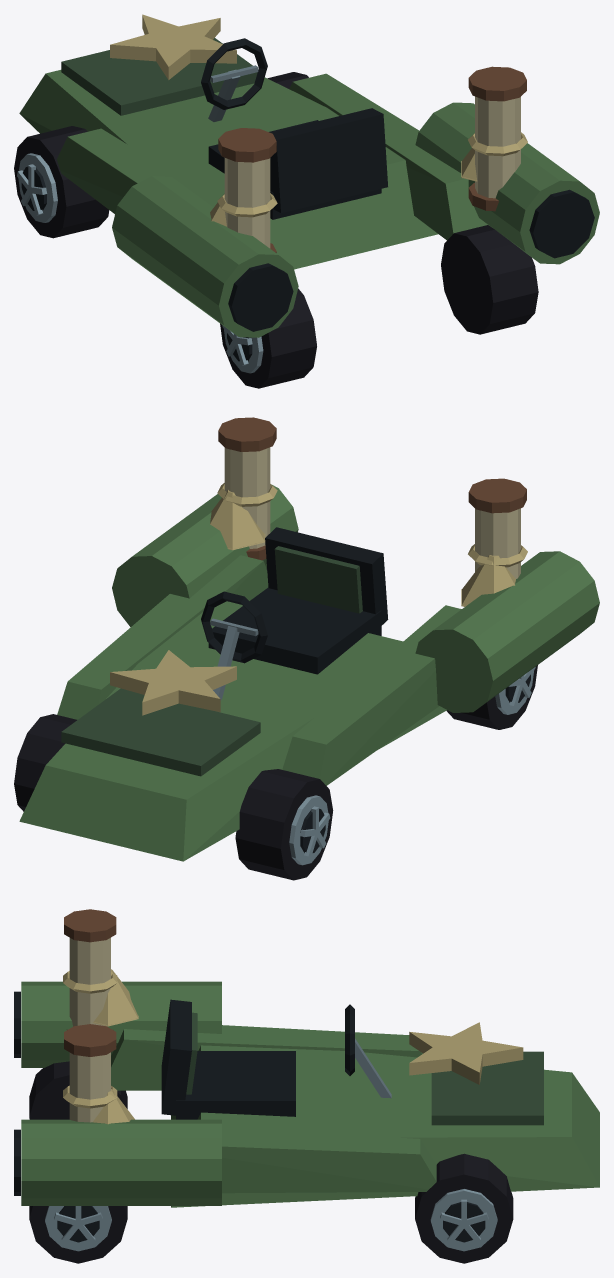
Rendered from kart.glb.
3 views of the same model, one above another, from view 1: azimuth 30°, elevation 25°; view 2: azimuth 150°, elevation 25°; view 3: azimuth 270°, elevation 25° (orthographic). The views are drawn at different scales.
Parts seen in each view (by area): view 1: identity-speeder-speeder-long-cowl-and-stern-turbines, identity-speeder-driver-cockpit, identity-speeder-motif-scrolls, wheel-rear-right, wheel-front-left, wheel-rear-left, identity-speeder-motif-star, identity-speeder-motif-gems; view 2: identity-speeder-speeder-long-cowl-and-stern-turbines, identity-speeder-driver-cockpit, identity-speeder-motif-scrolls, wheel-front-left, identity-speeder-motif-star, identity-speeder-motif-gems, wheel-front-right, wheel-rear-left; view 3: identity-speeder-speeder-long-cowl-and-stern-turbines, identity-speeder-driver-cockpit, identity-speeder-motif-scrolls, wheel-front-right, wheel-rear-right, identity-speeder-motif-star, wheel-rear-left, identity-speeder-motif-gems.
Boxes of the visible parts, left/top/right/bottom form: identity-speeder-speeder-long-cowl-and-stern-turbines: left=19, top=38, right=599, bottom=337; identity-speeder-driver-cockpit: left=201, top=38, right=387, bottom=219; identity-speeder-motif-scrolls: left=217, top=66, right=527, bottom=252; wheel-rear-right: left=441, top=225, right=538, bottom=334; wheel-front-left: left=14, top=126, right=109, bottom=238; wheel-rear-left: left=220, top=288, right=316, bottom=388; identity-speeder-motif-star: left=110, top=14, right=236, bottom=79; identity-speeder-motif-gems: left=210, top=148, right=477, bottom=226; identity-speeder-speeder-long-cowl-and-stern-turbines: left=19, top=484, right=599, bottom=861; identity-speeder-driver-cockpit: left=201, top=527, right=388, bottom=700; identity-speeder-motif-scrolls: left=217, top=417, right=527, bottom=578; wheel-front-left: left=235, top=769, right=333, bottom=880; identity-speeder-motif-star: left=110, top=650, right=236, bottom=715; identity-speeder-motif-gems: left=210, top=490, right=515, bottom=606; wheel-front-right: left=14, top=714, right=76, bottom=811; wheel-rear-left: left=446, top=665, right=537, bottom=729; identity-speeder-speeder-long-cowl-and-stern-turbines: left=14, top=981, right=599, bottom=1207; identity-speeder-driver-cockpit: left=161, top=999, right=391, bottom=1119; identity-speeder-motif-scrolls: left=63, top=909, right=117, bottom=1122; wheel-front-right: left=415, top=1153, right=513, bottom=1263; wheel-rear-right: left=29, top=1206, right=127, bottom=1263; identity-speeder-motif-star: left=409, top=1022, right=523, bottom=1084; wheel-rear-left: left=29, top=1061, right=127, bottom=1119; identity-speeder-motif-gems: left=93, top=969, right=138, bottom=1124.
Bounding box in the file's own units: 2.1 × 1.26 × 2.98.
